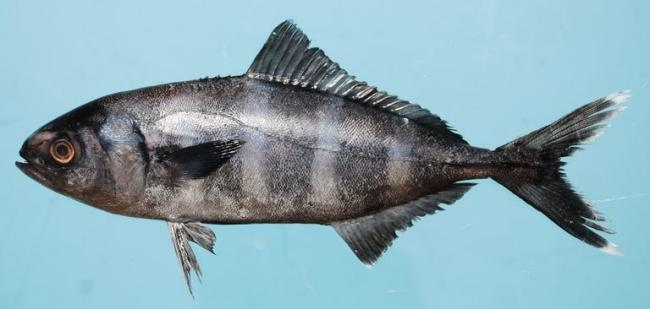fish: (15, 18, 634, 294)
